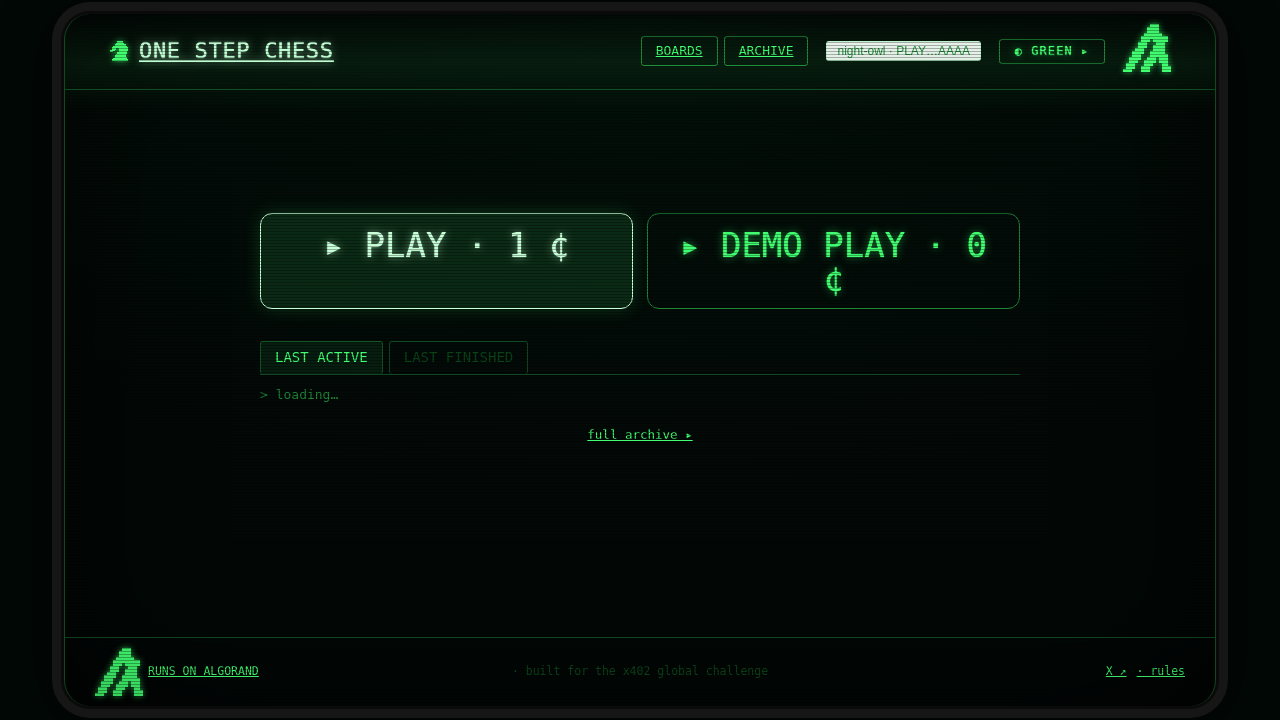
edge states (#31, F-W10 rows) › NO_BOARDS centers its countdown and explains why a board may be unavailable
Step 1. Click the button "▸ PLAY · 1 ¢" → x=446, y=261, box [260,213,633,309]
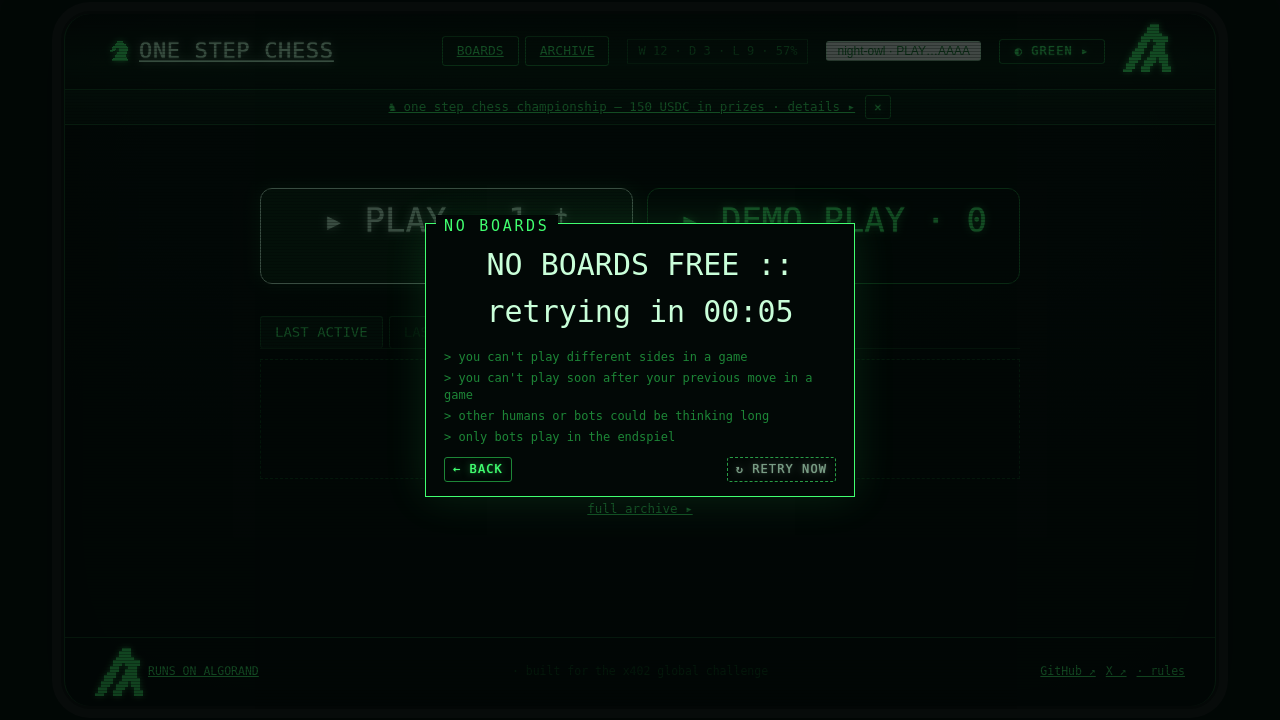
expect the text "> you can't play different sides in a game" is shown: met, box [444,350,747,364]
expect the text "> you can't play soon after your previous move in a game" is shown: met, box [444,370,836,403]
expect the text "> other humans or bots could be thinking long" is shown: met, box [444,409,769,423]
